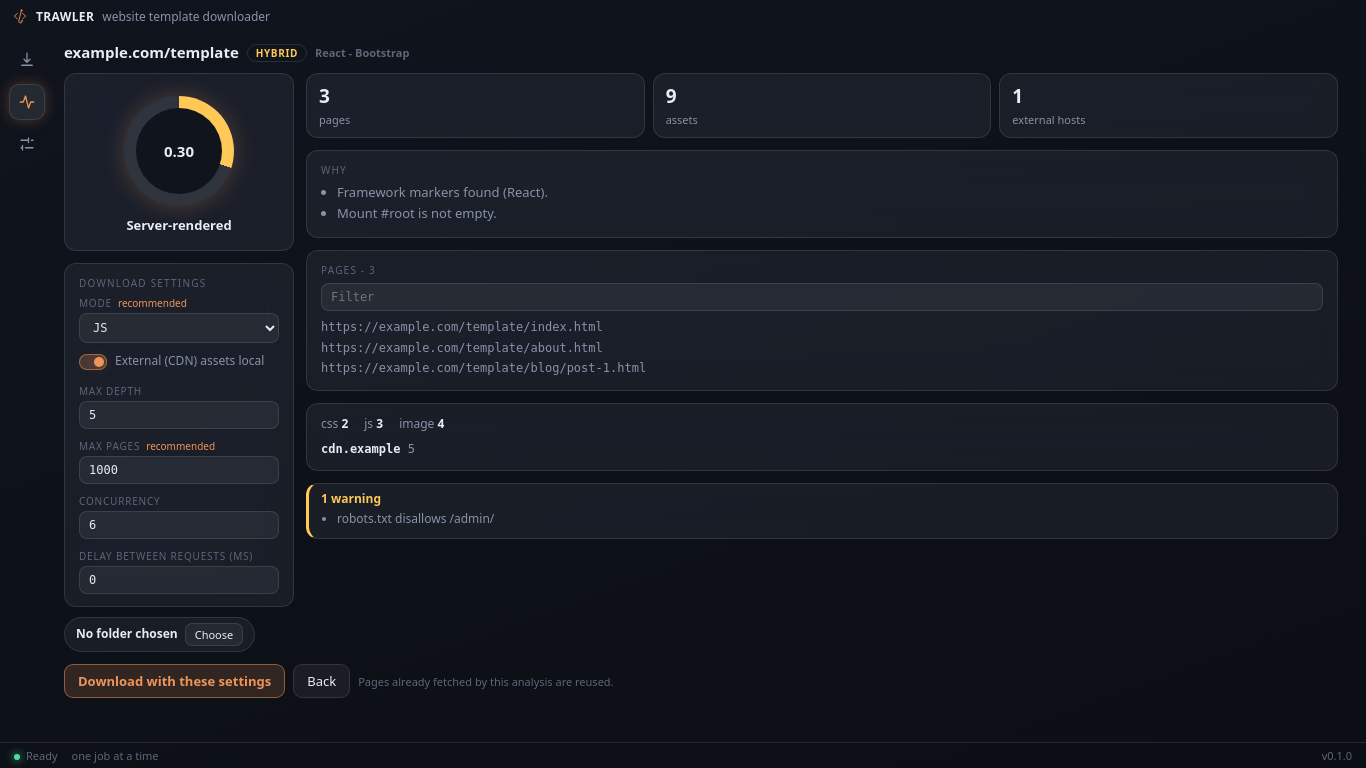
Test: Analysis screen › starts the download with the edited settings in the chosen folder
The image size is (1366, 768).
Click the button with aria-label "Choose output folder".
click(214, 634)  # box [185, 623, 243, 646]
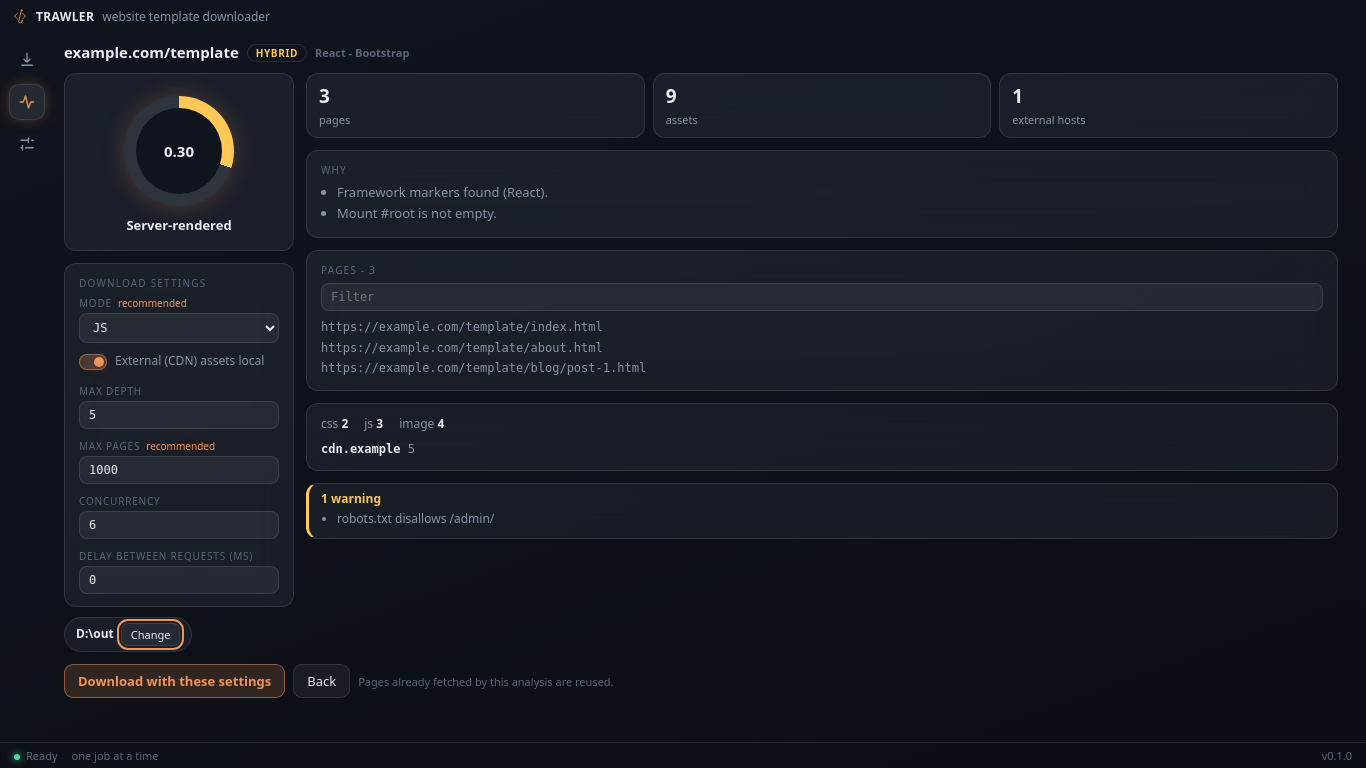
expect the text "D:\\out" is shown: met, box [76, 626, 114, 643]
Replace the text in the field labelled "Max depth" with "3" at coordinates (179, 415), box [79, 401, 279, 429]
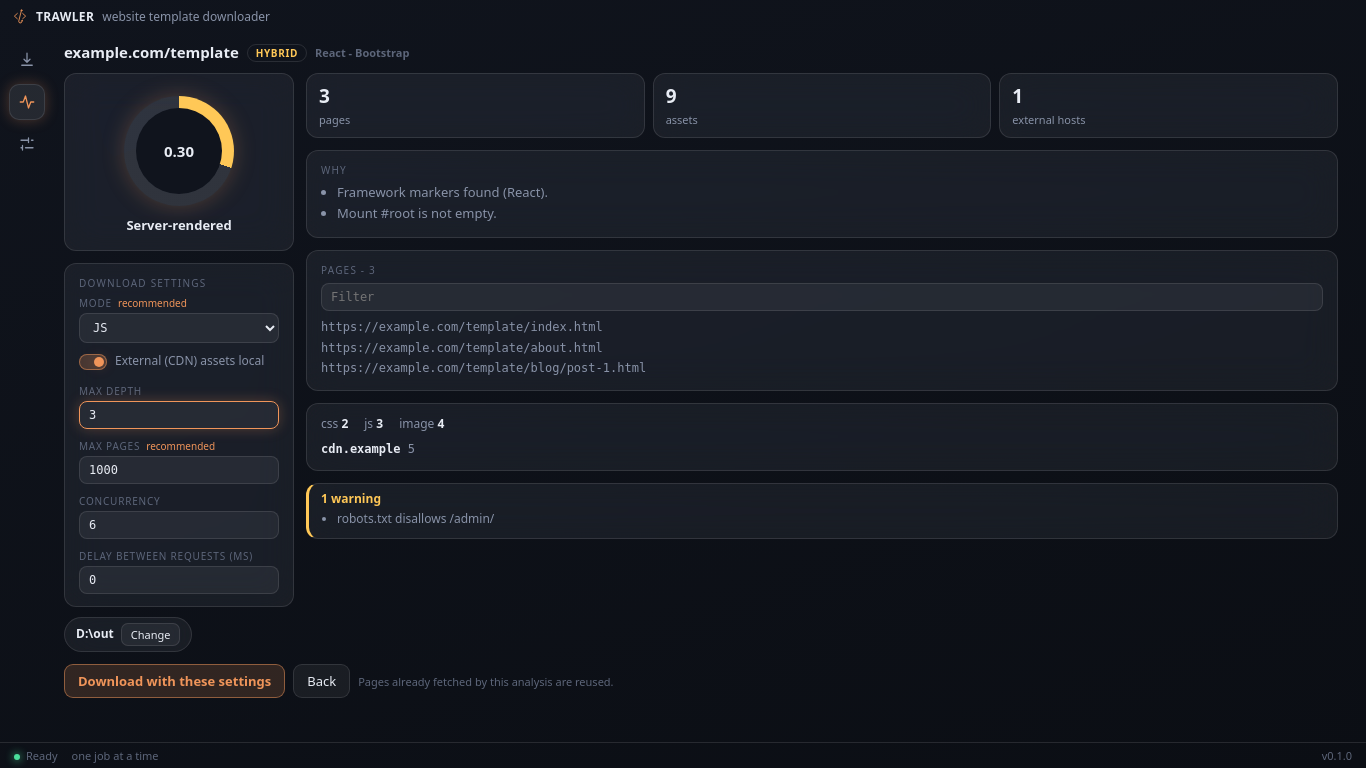
Click the button "Download with these settings".
click(175, 681)  # box [64, 664, 285, 698]
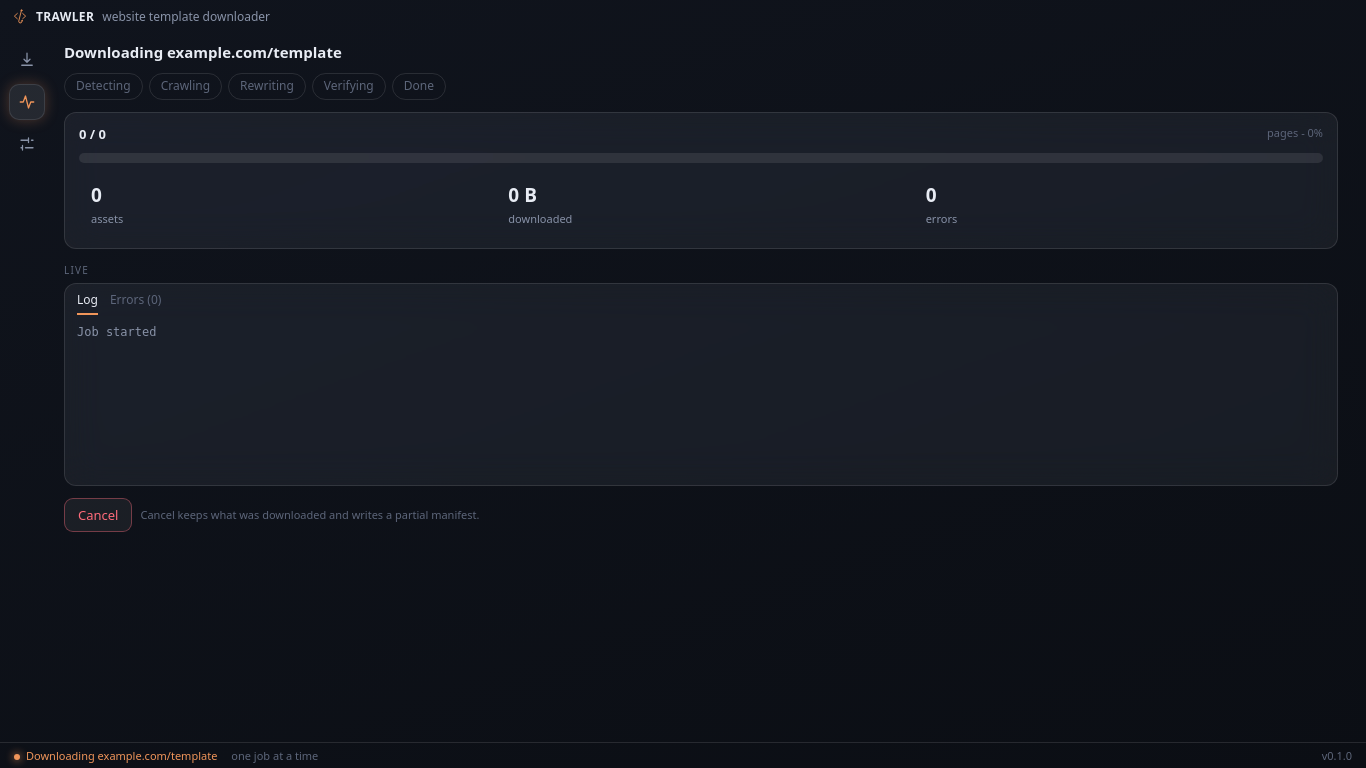
expect the button "Cancel" is shown: met, box [64, 498, 132, 532]
